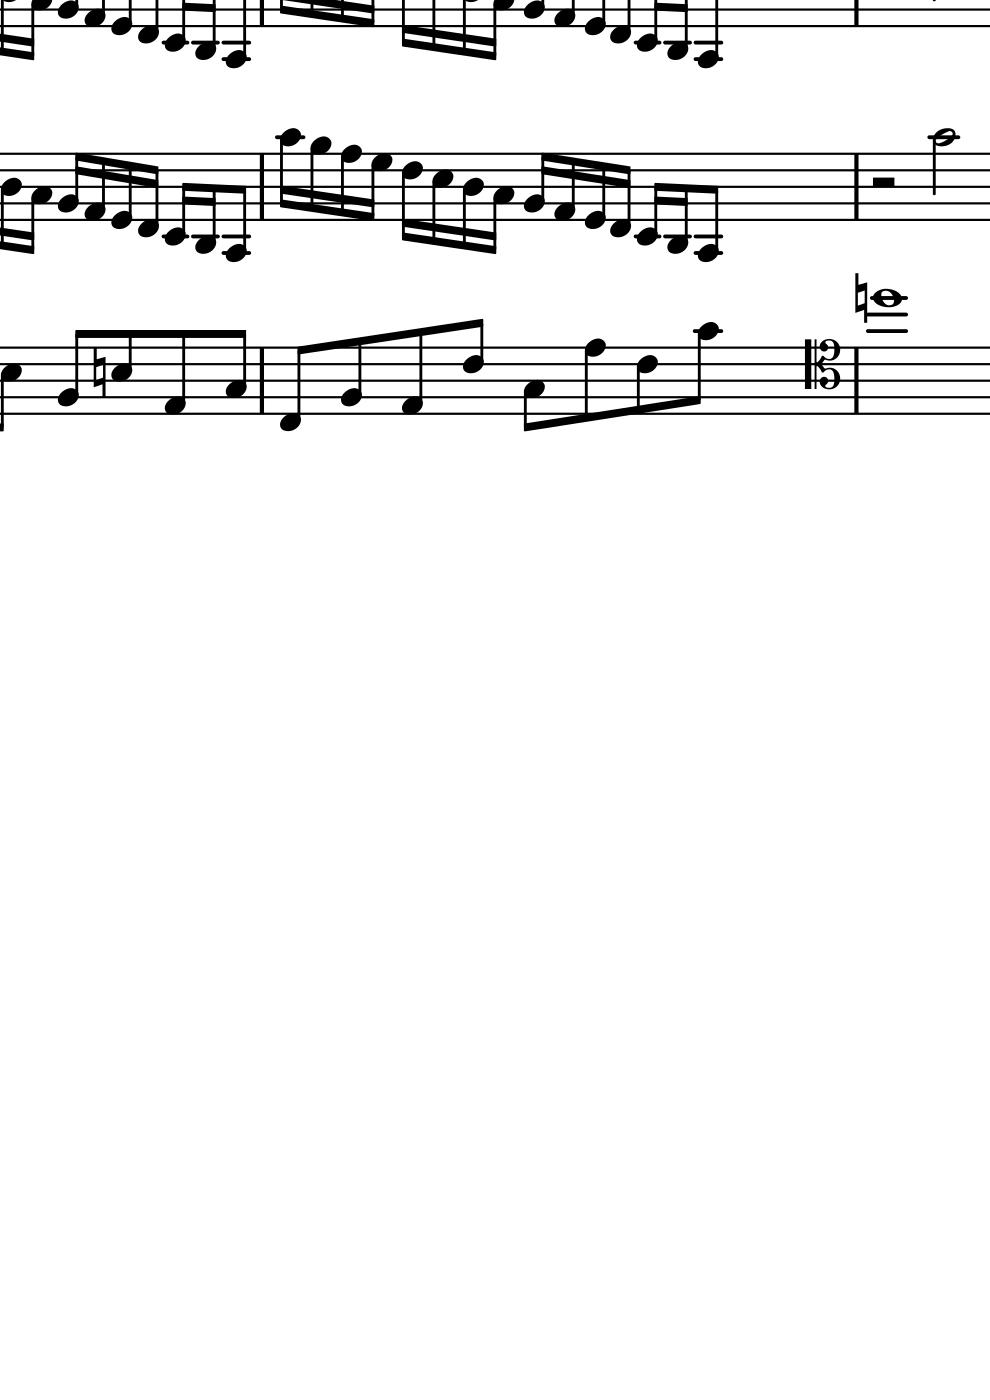16_-1: (135, 151, 159, 239), (607, 152, 631, 240)
16_-2: (634, 151, 663, 249), (163, 151, 191, 249), (192, 151, 217, 256)
16_-3: (665, 153, 690, 256)
16_0: (582, 152, 607, 231), (108, 152, 133, 231)
16_1: (551, 152, 577, 223), (82, 151, 107, 224)
16_10: (274, 127, 304, 224)
16_2: (521, 151, 550, 222), (56, 151, 84, 222)
16_3: (22, 152, 52, 257), (485, 152, 515, 257)
16_4: (459, 151, 483, 252), (1, 151, 22, 255)
16_5: (429, 151, 453, 249)
16_6: (399, 151, 423, 243)
16_7: (363, 151, 393, 223)
16_8: (337, 144, 361, 223)
16_9: (306, 136, 332, 223)
1_14: (867, 287, 910, 415)
2_10: (929, 125, 959, 223)
4_5: (1, 345, 22, 431)
8_-1: (277, 343, 312, 433)
8_-4: (693, 150, 723, 264), (221, 150, 250, 266)
8_1: (397, 327, 425, 418), (161, 327, 187, 418)
8_10: (686, 320, 720, 417)
8_2: (55, 328, 86, 417), (337, 336, 363, 417)
8_3: (520, 345, 546, 433), (222, 328, 247, 416)
8_5: (108, 328, 134, 417)
8_6: (460, 317, 485, 417), (634, 345, 658, 418)
8_8: (581, 338, 606, 424)
Natural: (90, 346, 108, 398), (852, 271, 869, 325)
Rests2: (866, 174, 900, 194)
Single_barline: (846, 153, 866, 220), (253, 348, 270, 413), (847, 348, 864, 413), (254, 154, 269, 221)
Tensor_Cclef: (801, 336, 841, 415)
